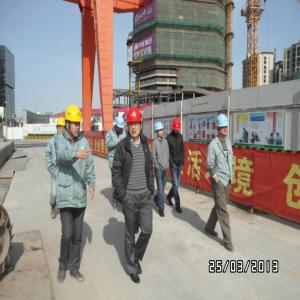blue: (216, 114, 231, 139), (114, 115, 126, 134), (156, 124, 164, 138)
red: (126, 107, 144, 140), (171, 117, 182, 136)
yellow: (65, 105, 84, 139), (56, 118, 66, 135)
